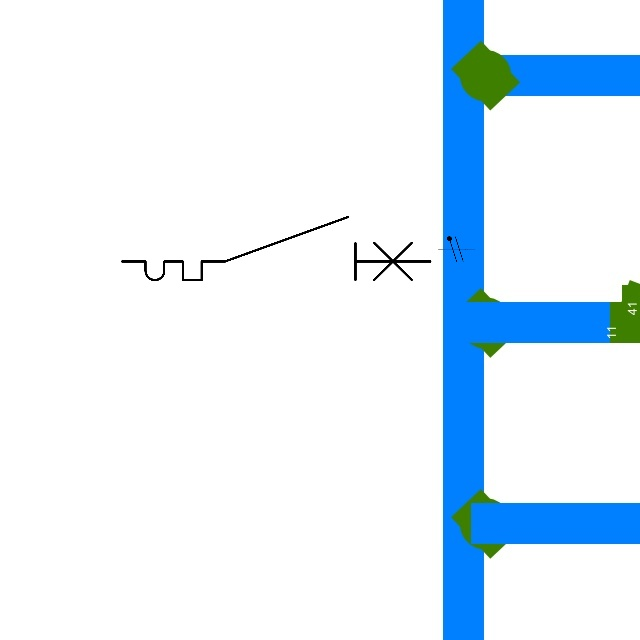interruptor_termomagnetico: (114, 209, 438, 288)
